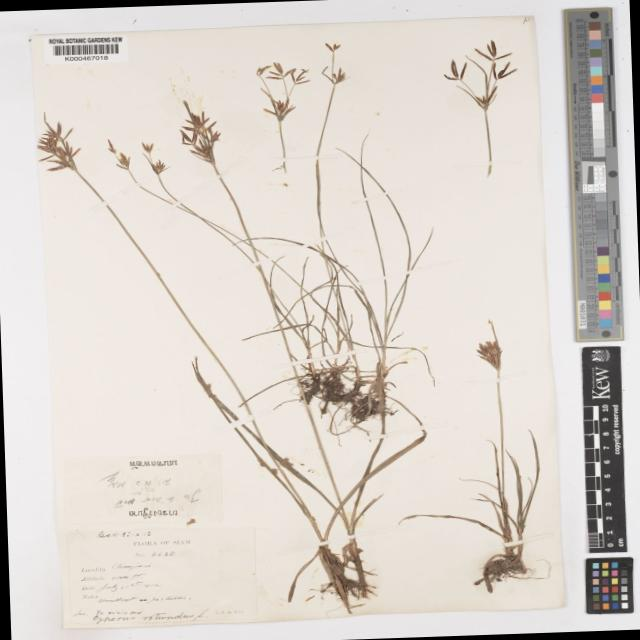cyperus: (436, 40, 526, 114), (166, 97, 226, 161), (33, 106, 84, 179), (246, 55, 302, 119), (101, 134, 170, 180), (313, 40, 356, 86)
